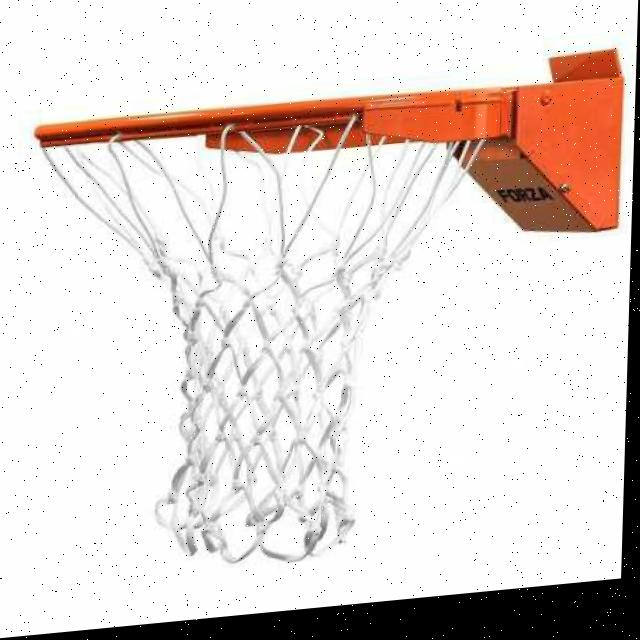hoop: (21, 78, 511, 588)
